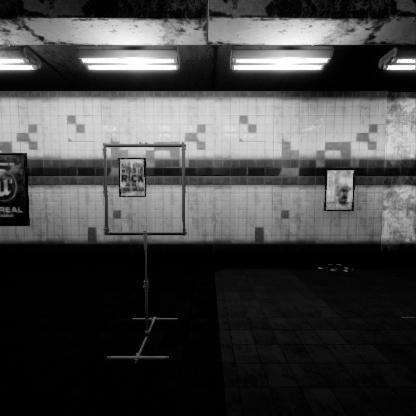gate: (103, 180, 193, 272)
